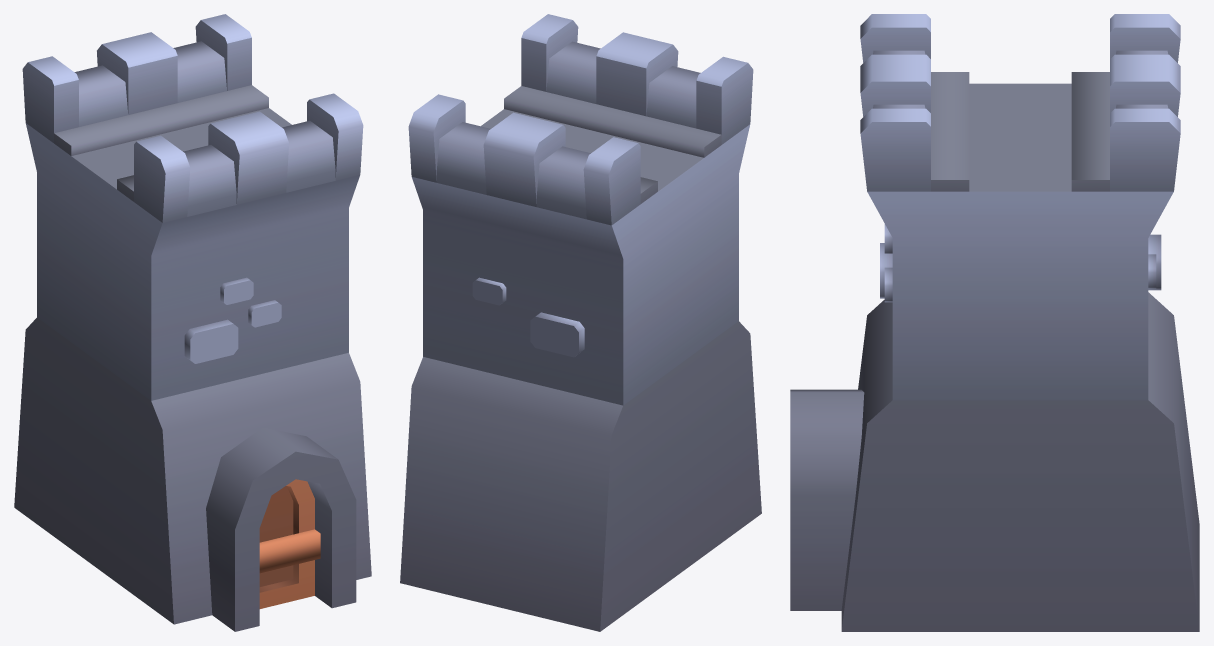
File: castle-door.glb
3 renders of one model, left to right at view 1: azimuth 30°, elevation 25°; view 2: azimuth 150°, elevation 25°; view 3: azimuth 270°, elevation 25°, orthographic. The views are drawn at different scales.
Visible parts, largest first — view 1: castle-door; view 2: castle-door; view 3: castle-door.
Part boxes in pixels (x1,y1,x2,y2): castle-door: (14, 14, 371, 631); castle-door: (400, 14, 761, 631); castle-door: (790, 14, 1199, 631).
Size of the model in its own units: 2 by 4.4 by 3.2.
Materials: 1 (1 with a texture image).
